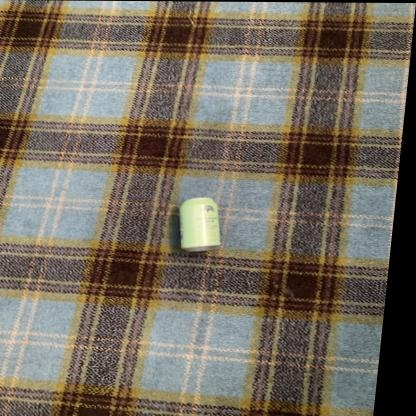trash: (180, 197, 219, 250)
